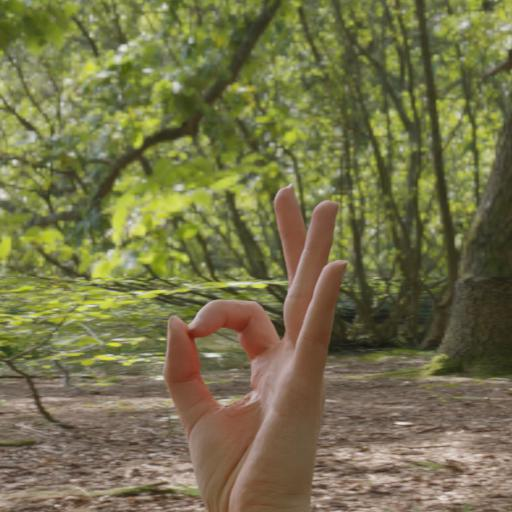F: (143, 177, 364, 512)
